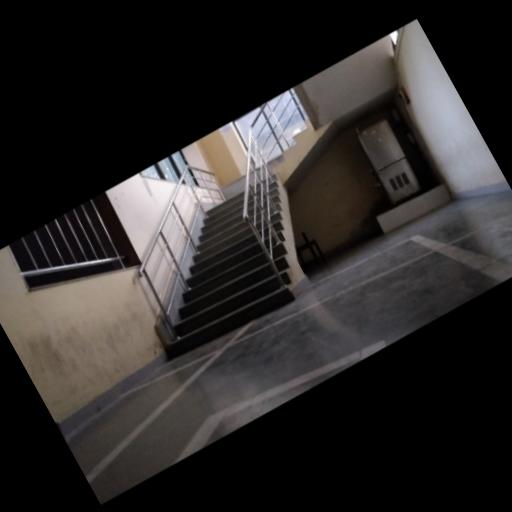stairs: (166, 181, 294, 357)
